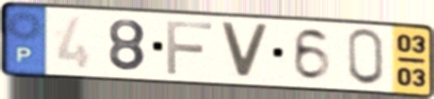0: (344, 26, 386, 89)
4: (53, 14, 96, 73)
6: (290, 27, 333, 83)
8: (106, 17, 149, 73)
F: (163, 18, 216, 77)
V: (217, 20, 273, 82)
